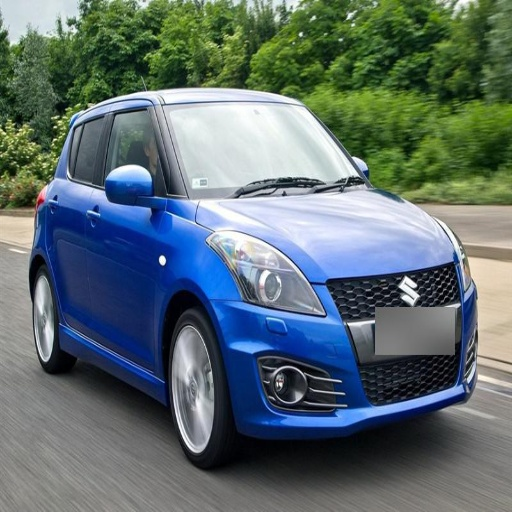front_bumper: (217, 262, 472, 439)
front_right_door: (87, 102, 172, 371)
front_right_light: (208, 232, 326, 315)
hood: (211, 185, 460, 281)
